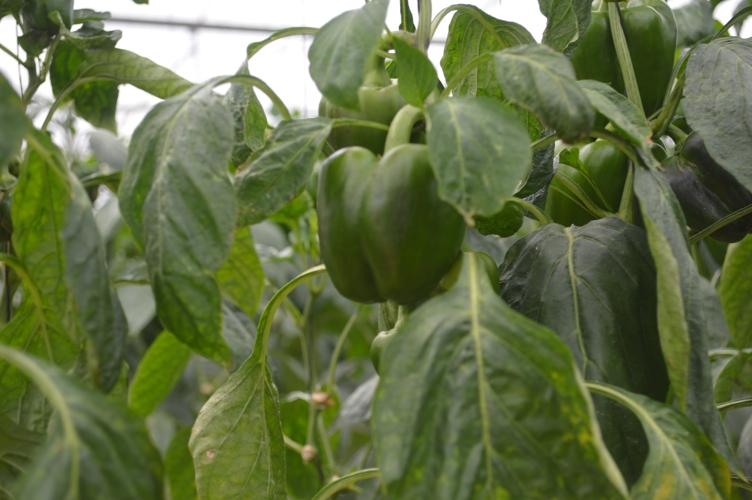BellPepper: (309, 141, 463, 311), (567, 3, 682, 118), (550, 138, 624, 227)
